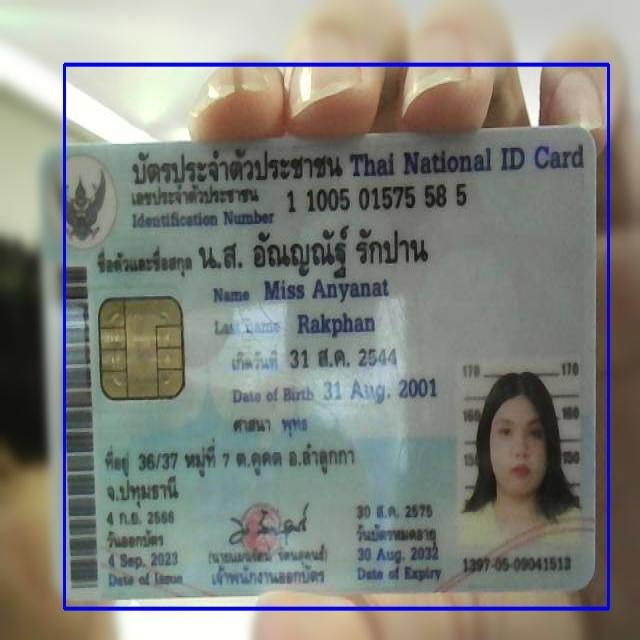Address_th: (100, 434, 362, 513)
Date_of_Birth: (318, 374, 442, 409)
Date_of_Expiry: (355, 543, 444, 567)
Date_of_Issue: (106, 549, 182, 572)
First_Name: (259, 275, 391, 307)
ID_Number: (281, 179, 473, 215)
Image: (456, 358, 581, 548)
Last_Name: (291, 310, 378, 340)
Thai_Name: (195, 220, 444, 280)
